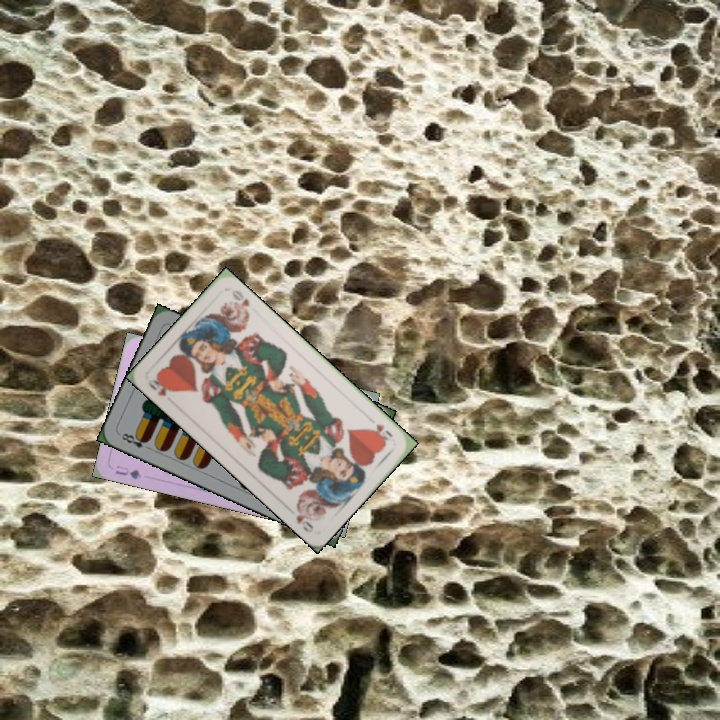E8: (116, 429, 151, 451)
GU: (111, 461, 144, 482)
HO: (144, 373, 176, 399), (367, 420, 395, 445)
